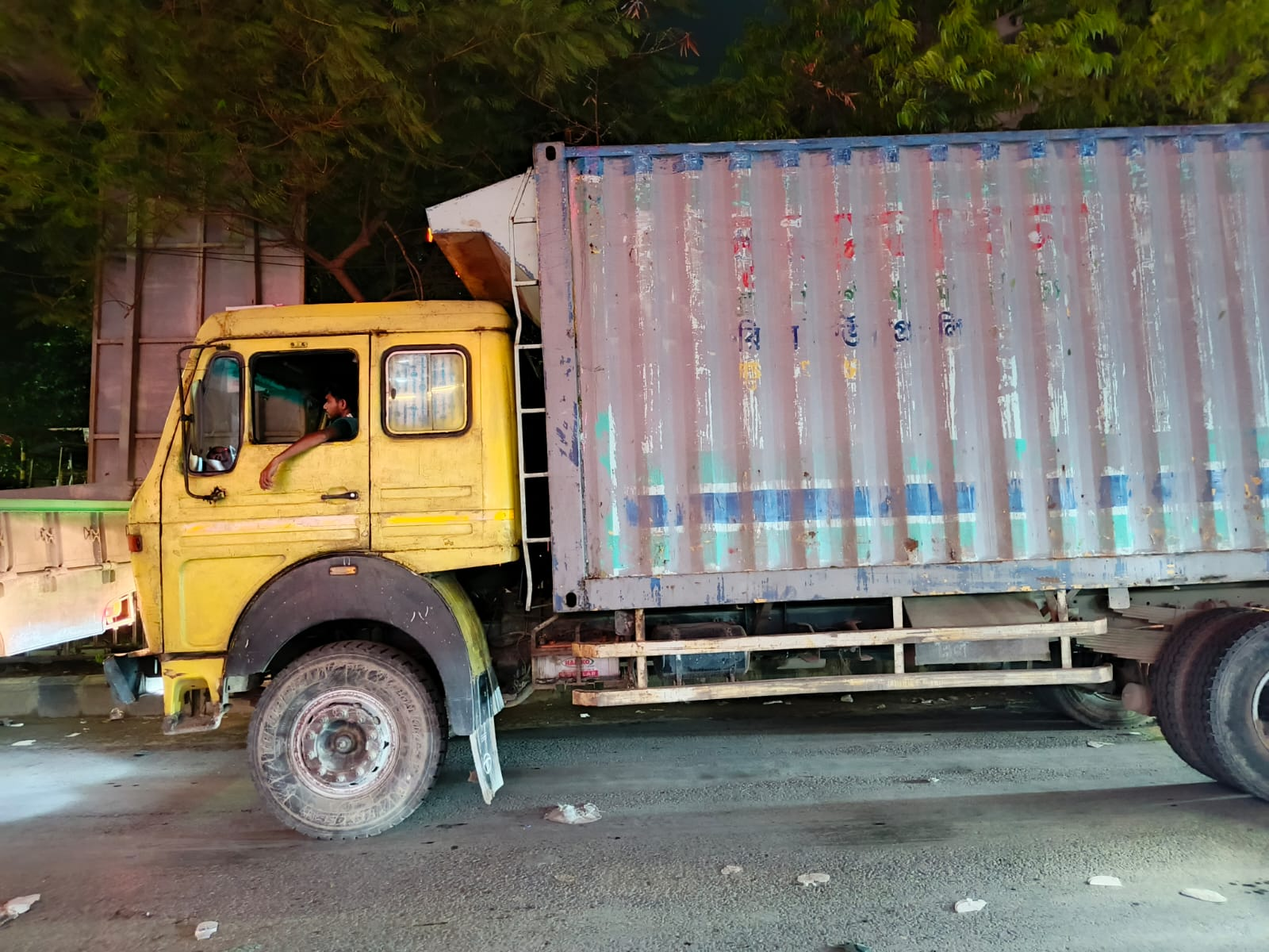Truck: (127, 58, 1269, 899)
